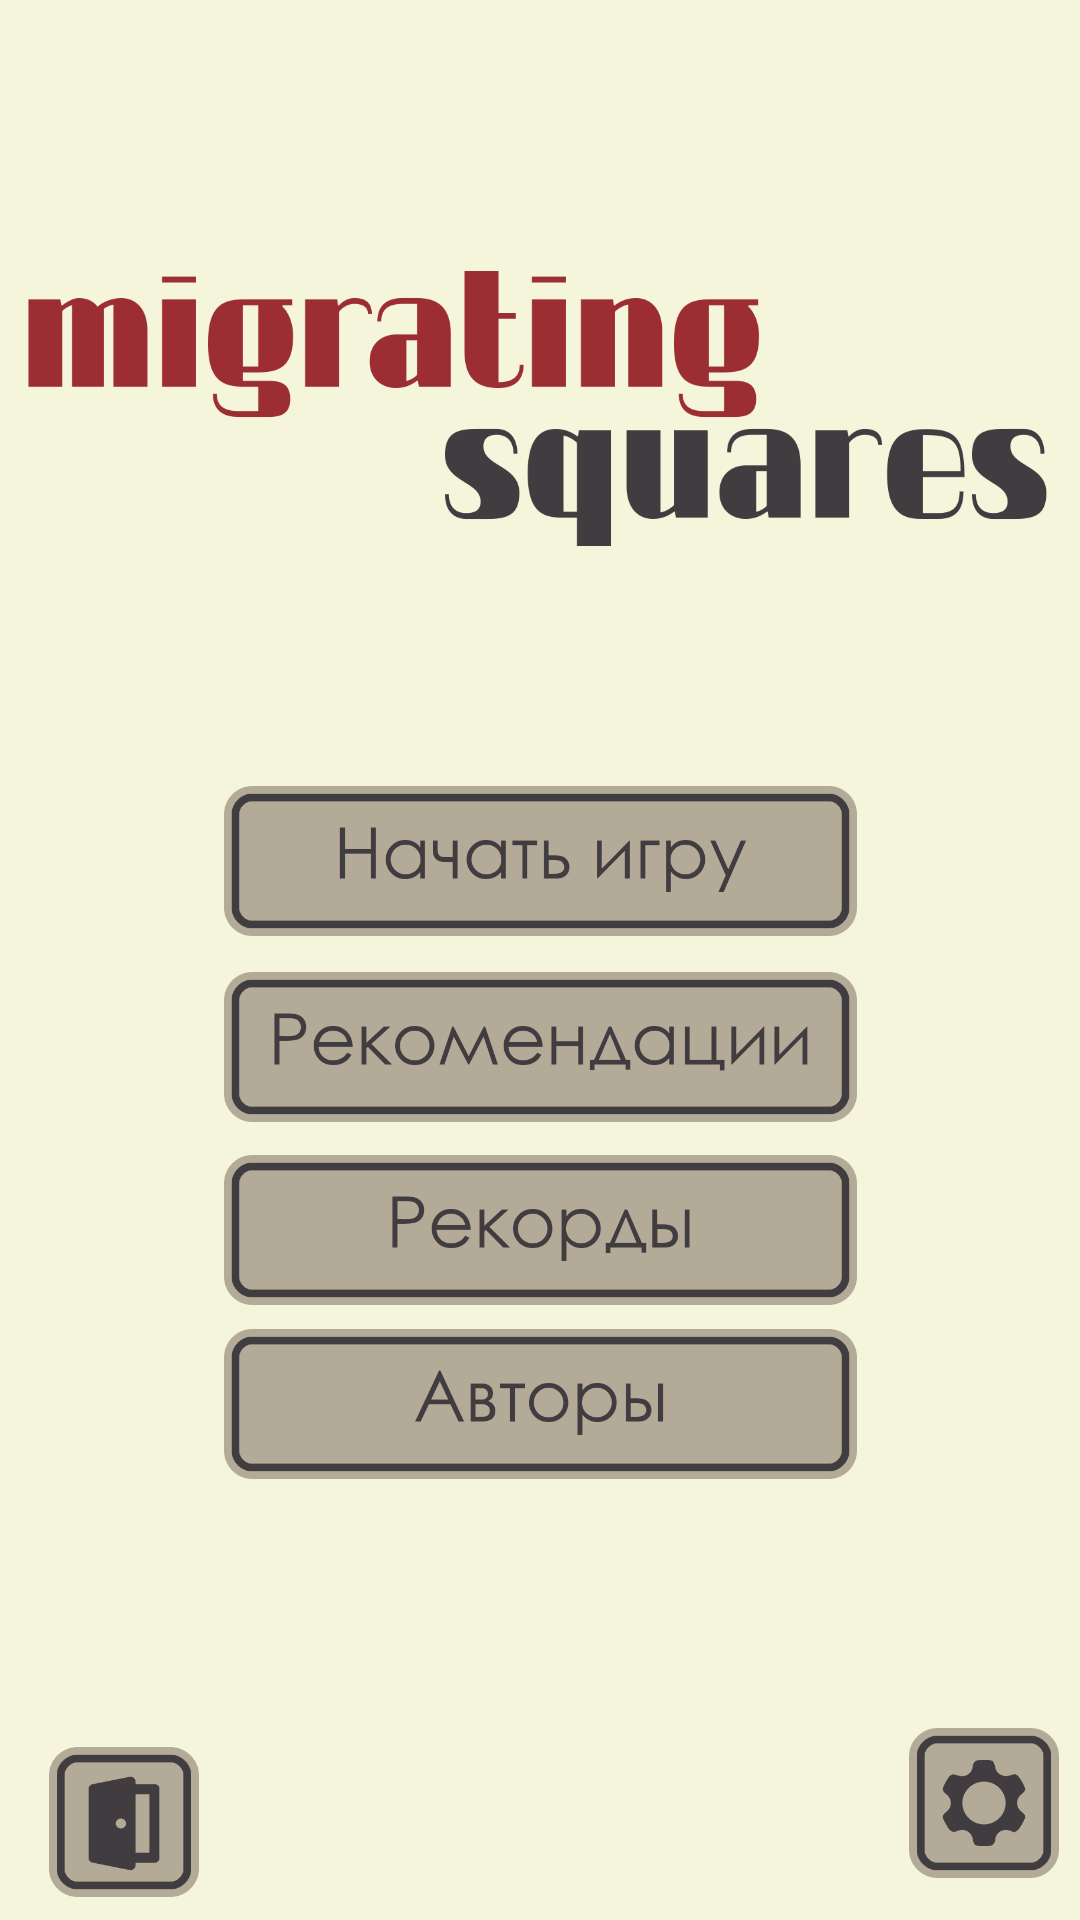

Icons on this 1080 x 1920 Android screen, each with the point to tap as (x=x, y=y):
exit: (x=124, y=1822)
settings: (x=984, y=1803)
